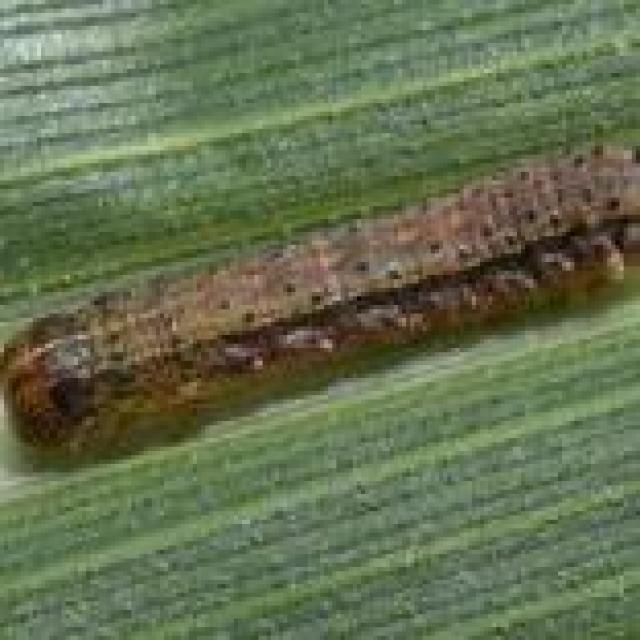armyworm: (1, 109, 640, 470)
